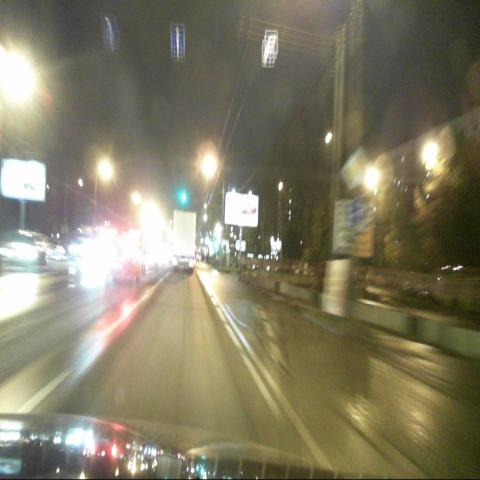5_15_2: (171, 25, 185, 55)
